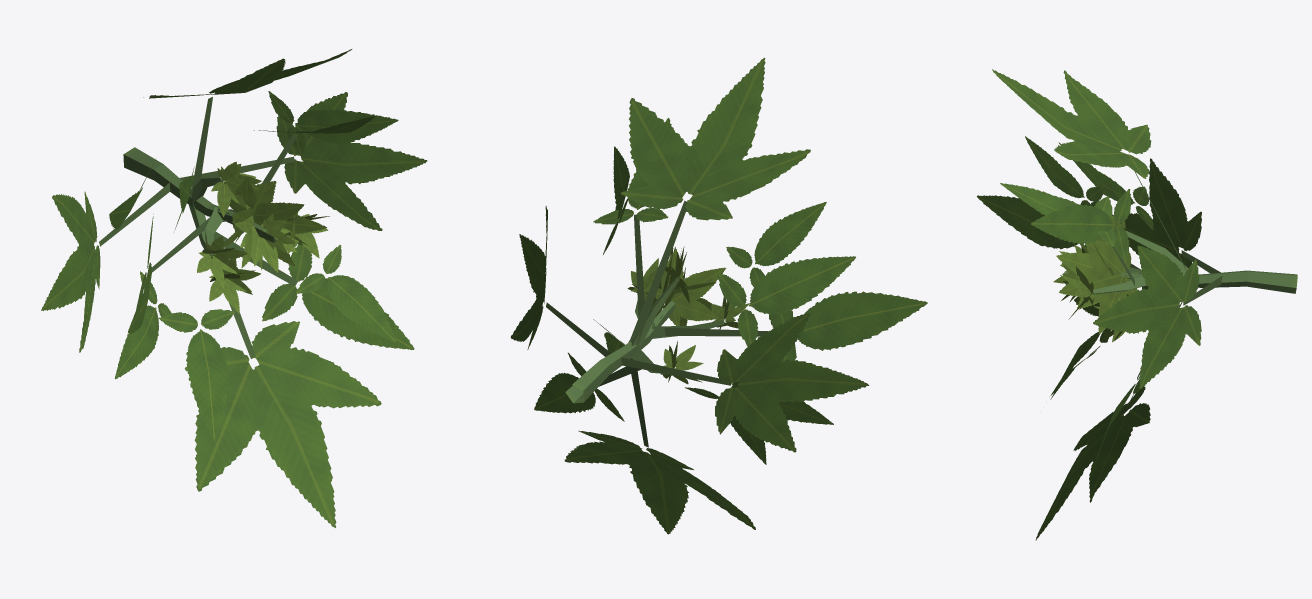
File: p_auto_vegetative_c0_cards.obj
The picture shows the model from 3 angles, left to right: view 1: azimuth 30°, elevation 25°; view 2: azimuth 150°, elevation 25°; view 3: azimuth 270°, elevation 25°; orthographic projection. The views are drawn at different scales.
Size of the model in its own units: 0.777 by 0.951 by 0.591.
1 material, 1 textured.
